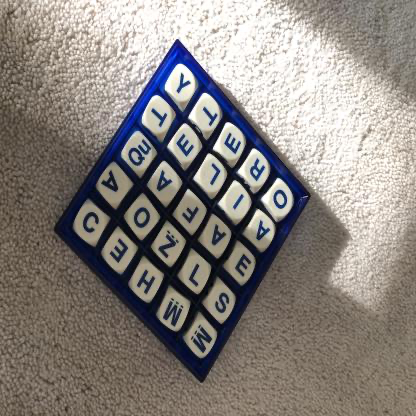a: (204, 219, 231, 257), (100, 167, 128, 202), (154, 166, 180, 202), (251, 215, 275, 249)
c: (78, 205, 106, 242)
e: (106, 232, 134, 271), (229, 247, 255, 285), (175, 128, 200, 163), (221, 127, 245, 162)
f: (179, 196, 205, 229)
h: (134, 262, 162, 301)
i: (226, 187, 251, 222)
l: (201, 157, 227, 195), (184, 255, 210, 291)
m: (189, 318, 216, 359), (160, 294, 188, 331)
o: (131, 200, 156, 237), (269, 183, 293, 219)
qu: (127, 133, 154, 172)
r: (246, 154, 270, 188)
s: (210, 287, 234, 322)
t: (147, 99, 173, 135), (195, 99, 221, 132)
y: (171, 69, 197, 103)
z: (156, 227, 183, 263)
